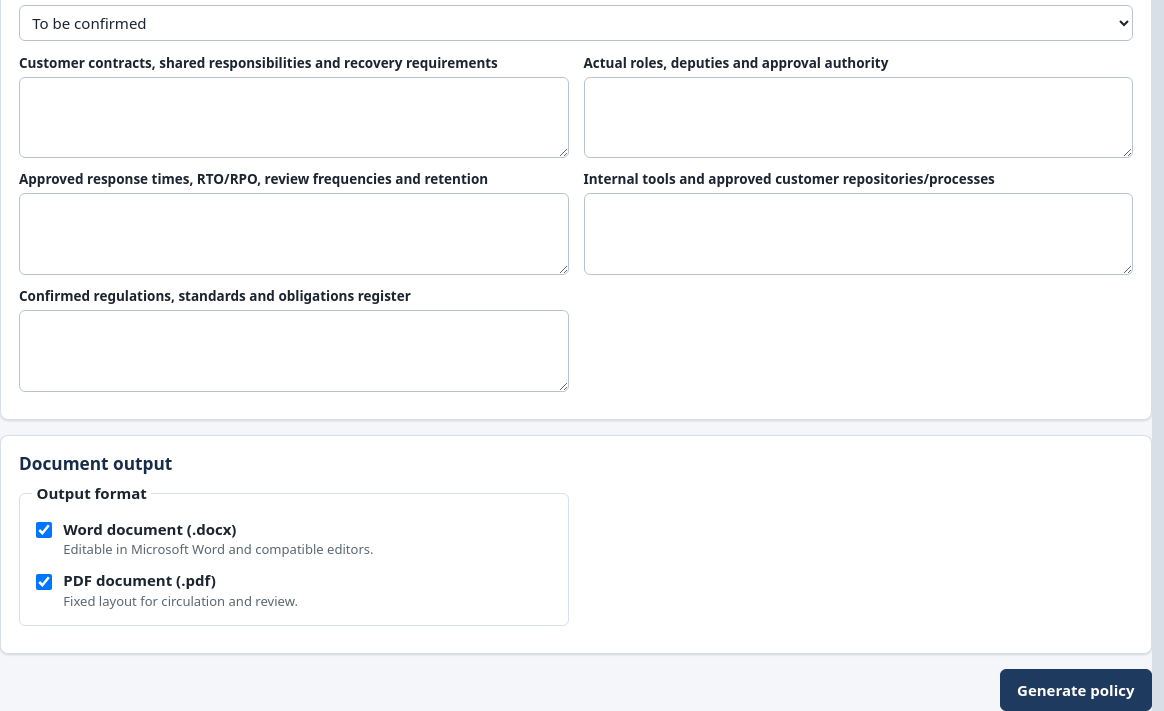
PolicyConfigForm › validates required choices before submitting
(page scrolled)
Click the checkbox labelled "Word document".
click(44, 530)  # box [36,522,52,538]
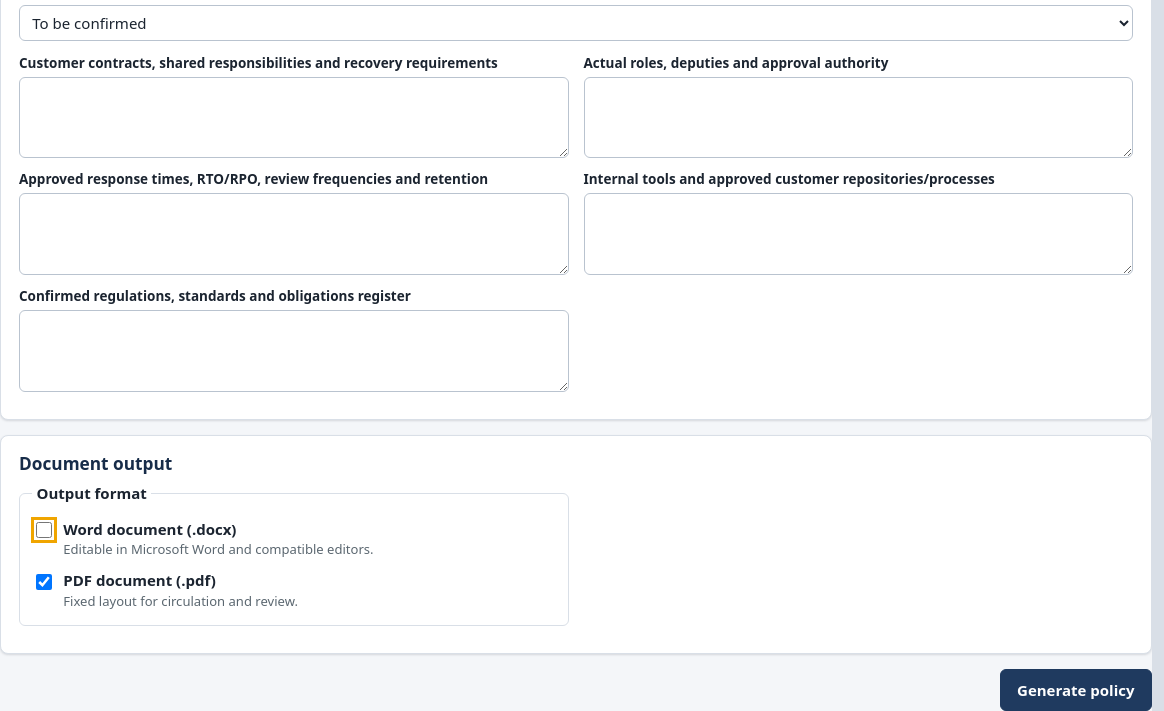
Click the checkbox labelled "PDF document (.pdf) Fixed layout for circulation and review.".
click(44, 582)  # box [36,574,52,590]
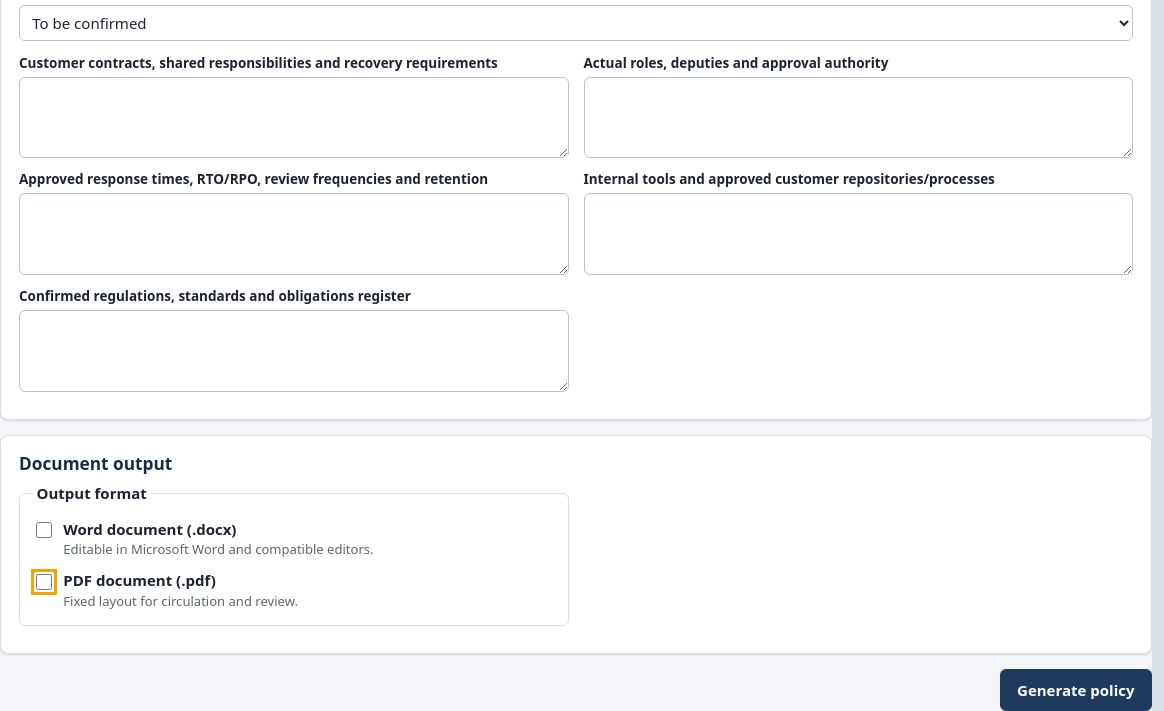
Click the button "Generate policy".
click(1076, 690)  # box [1000,669,1152,710]
(page scrolled)
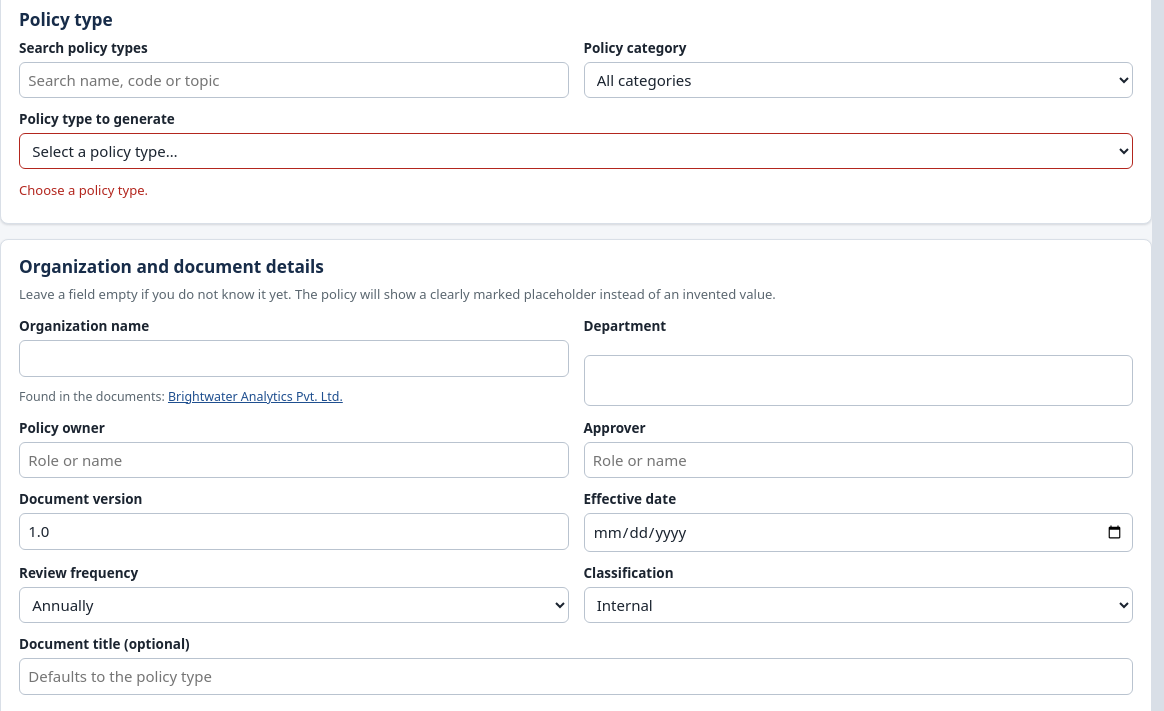
Expected: the text "Choose a policy type." is shown, [19,181,148,199]
